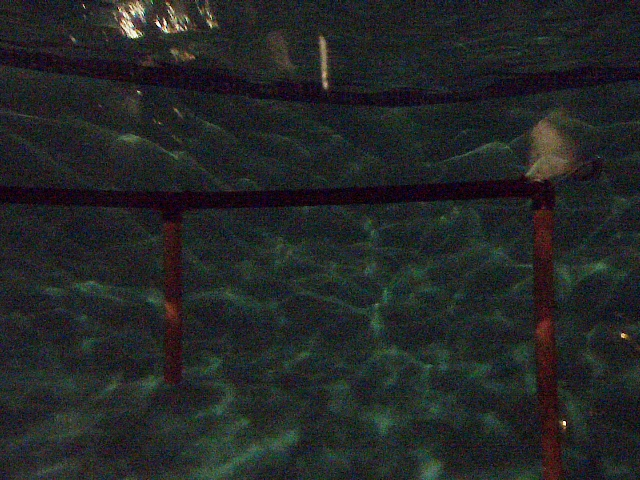Gate: (530, 208, 567, 480), (158, 215, 190, 382)
